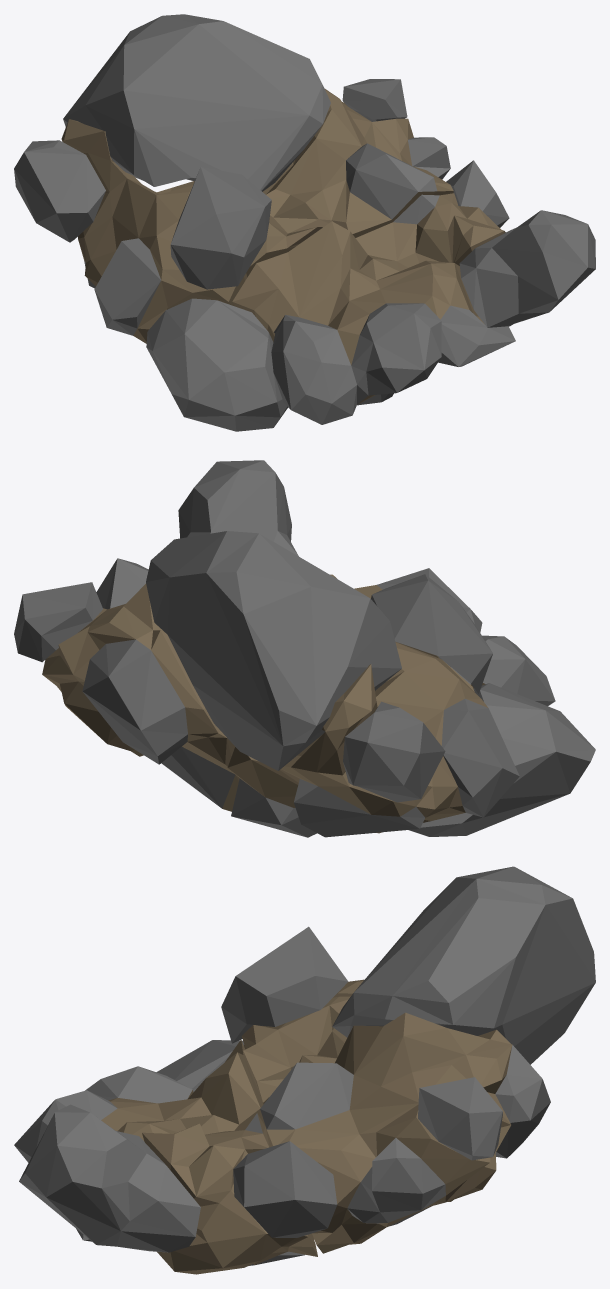
Rendered from SM_LP_Stone1_Pieces.fbx.
3 views of the same model, one above another, from view 1: azimuth 30°, elevation 25°; view 2: azimuth 150°, elevation 25°; view 3: azimuth 270°, elevation 25° (orthographic). The views are drawn at different scales.
Visible parts, largest first — view 1: SM_LP_Stone1_Pieces_6, SM_LP_Stone1_Pieces_5, SM_LP_Stone1_Pieces_7, SM_LP_Stone1_Pieces_3, SM_LP_Stone1_Pieces_2, SM_LP_Stone1_Pieces_9, SM_LP_Stone1_Pieces_4, SM_LP_Stone1_Pieces_1, SM_LP_Stone1_Pieces_8, SM_LP_Stone1_Pieces_10; view 2: SM_LP_Stone1_Pieces_5, SM_LP_Stone1_Pieces_3, SM_LP_Stone1_Pieces_7, SM_LP_Stone1_Pieces_2, SM_LP_Stone1_Pieces_9, SM_LP_Stone1_Pieces_1, SM_LP_Stone1_Pieces_4, SM_LP_Stone1_Pieces_8, SM_LP_Stone1_Pieces_6, SM_LP_Stone1_Pieces_10; view 3: SM_LP_Stone1_Pieces_7, SM_LP_Stone1_Pieces_5, SM_LP_Stone1_Pieces_6, SM_LP_Stone1_Pieces_9, SM_LP_Stone1_Pieces_4, SM_LP_Stone1_Pieces_10, SM_LP_Stone1_Pieces_8, SM_LP_Stone1_Pieces_2.
Boxes of the visible parts, x1,y1,x2,y2 form: SM_LP_Stone1_Pieces_6: [232, 193, 515, 424]; SM_LP_Stone1_Pieces_5: [63, 14, 330, 191]; SM_LP_Stone1_Pieces_7: [244, 88, 453, 280]; SM_LP_Stone1_Pieces_3: [61, 119, 244, 343]; SM_LP_Stone1_Pieces_2: [146, 298, 287, 431]; SM_LP_Stone1_Pieces_9: [459, 210, 595, 327]; SM_LP_Stone1_Pieces_4: [170, 167, 271, 289]; SM_LP_Stone1_Pieces_1: [14, 140, 105, 242]; SM_LP_Stone1_Pieces_8: [342, 79, 407, 121]; SM_LP_Stone1_Pieces_10: [446, 160, 509, 227]; SM_LP_Stone1_Pieces_5: [146, 531, 401, 770]; SM_LP_Stone1_Pieces_3: [227, 642, 519, 837]; SM_LP_Stone1_Pieces_7: [42, 584, 438, 811]; SM_LP_Stone1_Pieces_2: [409, 683, 595, 836]; SM_LP_Stone1_Pieces_9: [178, 460, 298, 556]; SM_LP_Stone1_Pieces_1: [343, 701, 445, 802]; SM_LP_Stone1_Pieces_4: [371, 574, 492, 693]; SM_LP_Stone1_Pieces_8: [14, 582, 102, 662]; SM_LP_Stone1_Pieces_6: [330, 568, 555, 705]; SM_LP_Stone1_Pieces_10: [96, 558, 148, 609]; SM_LP_Stone1_Pieces_7: [241, 996, 550, 1253]; SM_LP_Stone1_Pieces_5: [332, 866, 595, 1064]; SM_LP_Stone1_Pieces_6: [14, 1039, 317, 1274]; SM_LP_Stone1_Pieces_9: [19, 1104, 200, 1252]; SM_LP_Stone1_Pieces_4: [221, 926, 348, 1043]; SM_LP_Stone1_Pieces_10: [233, 1141, 337, 1237]; SM_LP_Stone1_Pieces_8: [418, 1077, 502, 1160]; SM_LP_Stone1_Pieces_2: [156, 1040, 244, 1091].
Size of the model in its own units: 1.23 by 0.923 by 1.36.
